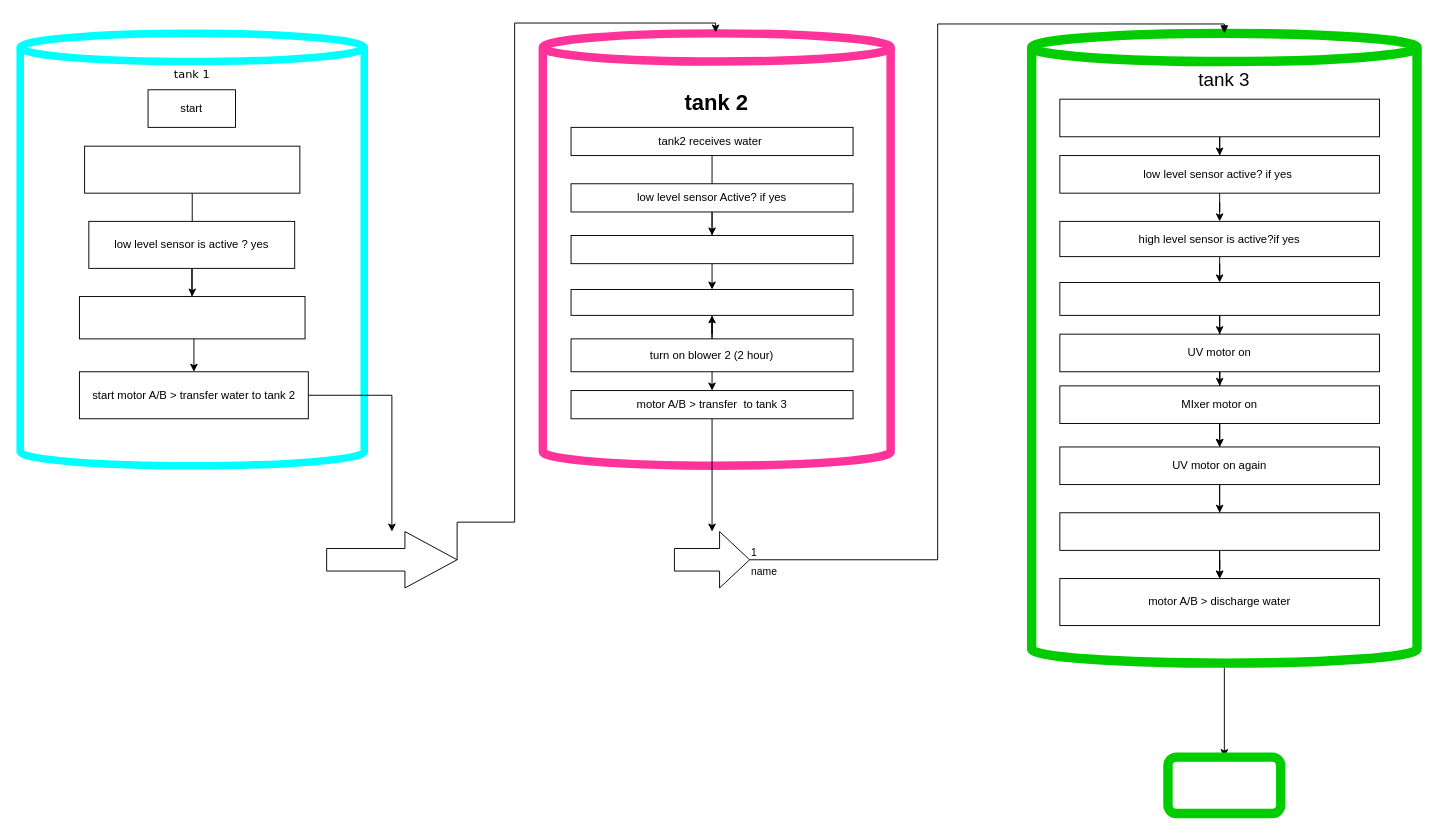
This 1437x835 diagram has some shape labels left out. The shapes that lost their labels are listed below. From the top down, each one's box as (x1, y1, x2, y2) in pixels, then its label:
(1059, 98, 1379, 137): tank 3 receives the water
(84, 145, 300, 193): water collected in tank 1
(570, 235, 853, 264): High level sensor is Active ? if yes
(78, 296, 305, 339): high level sensor active? yes
(570, 289, 853, 315): turn on blower 1 ( 2 hour)
(1059, 282, 1379, 315): purification process starts
(1059, 512, 1379, 550): mixer motor on again
(1163, 752, 1285, 818): end
